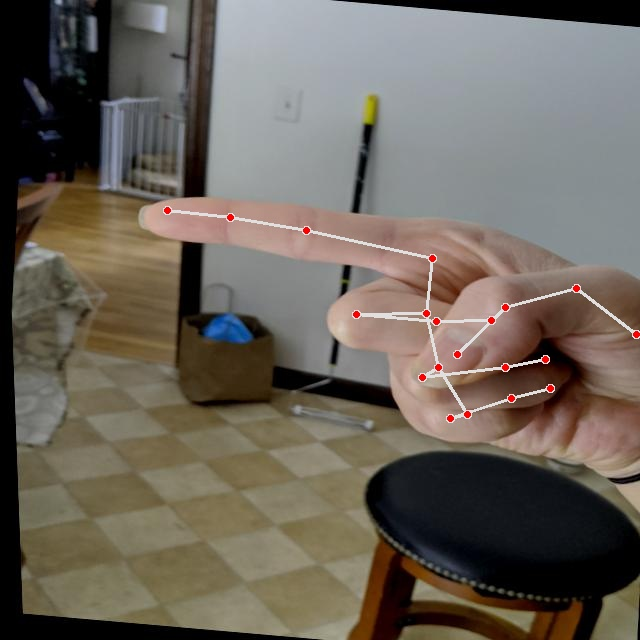G: (103, 181, 639, 483)
